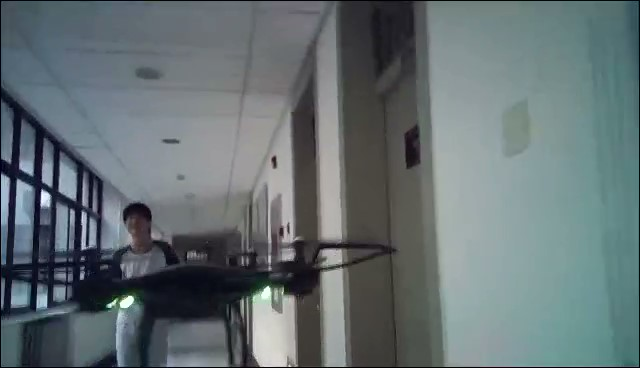drone: (1, 236, 398, 368)
person: (106, 200, 182, 368)
